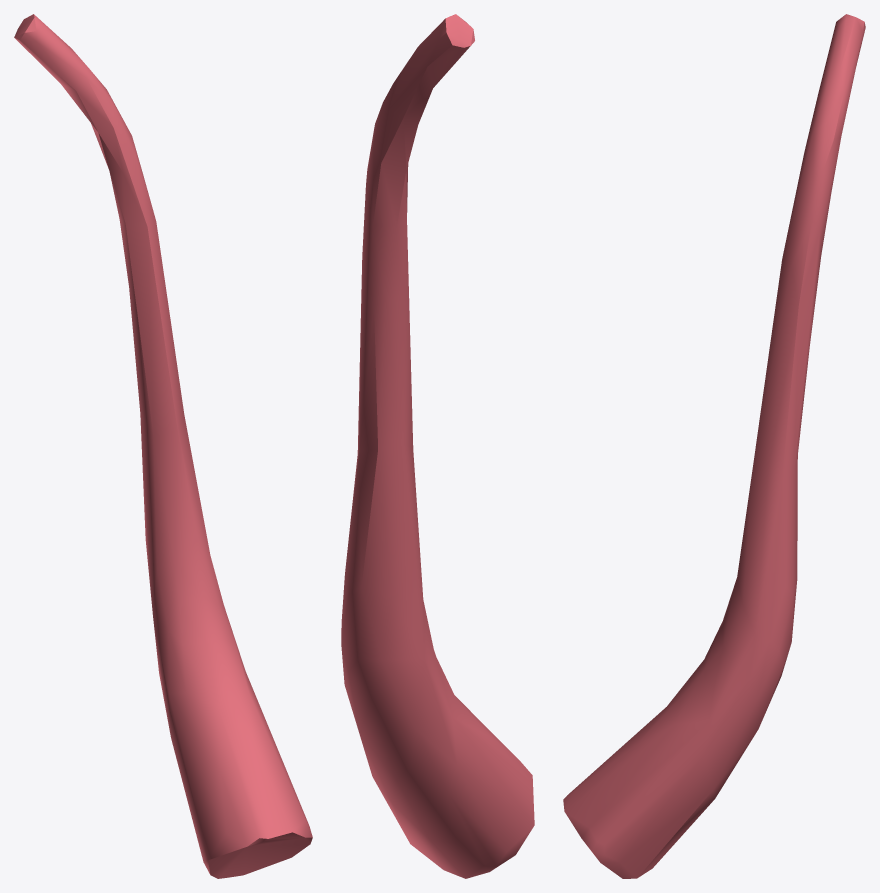
Rendered from fma8617_fj6048.glb.
3 renders of one model, left to right at view 1: azimuth 30°, elevation 25°; view 2: azimuth 150°, elevation 25°; view 3: azimuth 270°, elevation 25°, orthographic. The views are drawn at different scales.
Parts seen in each view (by area): view 1: FMA8617_FJ6048; view 2: FMA8617_FJ6048; view 3: FMA8617_FJ6048.
Boxes of the visible parts, <box> form: FMA8617_FJ6048: <box>14,14,312,878</box>; FMA8617_FJ6048: <box>341,14,534,878</box>; FMA8617_FJ6048: <box>563,14,865,878</box>.
Bounding box in the file's own units: 0.0125 × 0.0568 × 0.0192.
